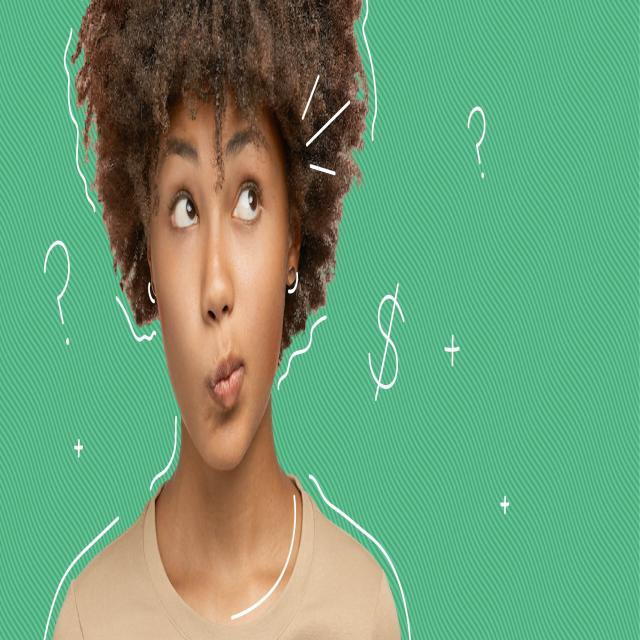adult: (51, 0, 404, 640)
